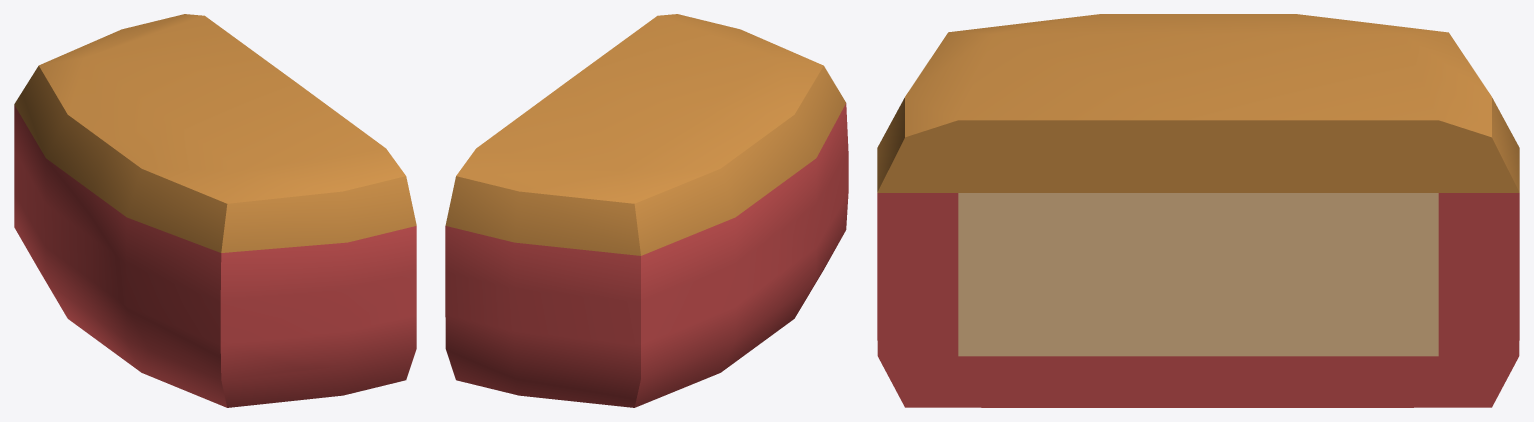
The model's file is mooncake_half.fbx.
3 renders of one model, left to right at view 1: azimuth 30°, elevation 25°; view 2: azimuth 150°, elevation 25°; view 3: azimuth 270°, elevation 25°, orthographic. The views are drawn at different scales.
Parts seen in each view (by area): view 1: mooncake_half; view 2: mooncake_half; view 3: mooncake_half.
Part boxes in pixels (<box>): mooncake_half: <box>14,14,416,407</box>; mooncake_half: <box>445,14,848,407</box>; mooncake_half: <box>877,14,1519,407</box>.
Bounding box in the file's own units: 0.4986 × 0.4937 × 1.
